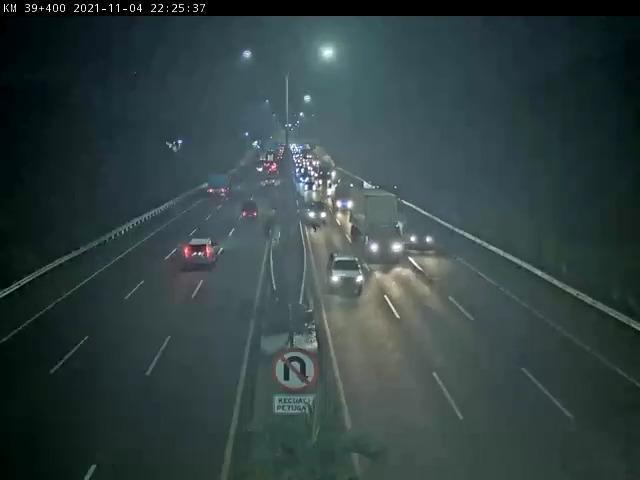car: (322, 251, 366, 299), (396, 213, 440, 254), (183, 235, 221, 271), (305, 200, 334, 228), (238, 202, 261, 228), (261, 179, 278, 193)
truck: (350, 189, 398, 261), (330, 185, 357, 218), (204, 174, 231, 205)
